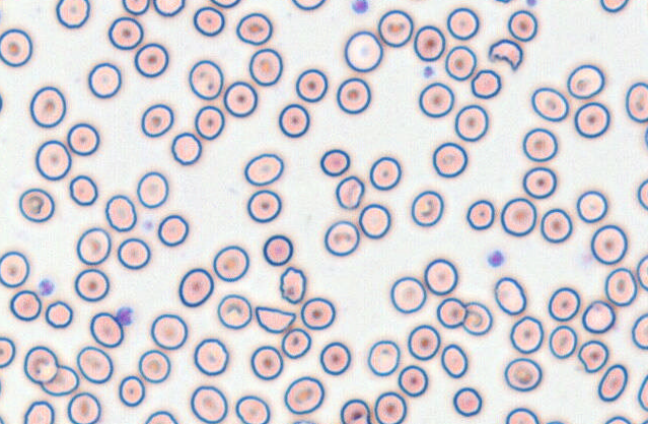PLT: (485, 248, 507, 268), (117, 306, 134, 326), (39, 279, 56, 297), (350, 0, 369, 15), (421, 64, 437, 79), (525, 0, 540, 7)
RBC: (344, 30, 383, 72), (283, 375, 324, 414), (29, 85, 66, 128), (590, 224, 627, 265), (35, 139, 71, 180), (190, 385, 228, 423), (178, 267, 214, 307), (188, 59, 223, 100), (150, 313, 188, 350), (76, 346, 113, 384), (212, 244, 249, 282), (193, 337, 229, 376), (530, 86, 569, 122), (500, 197, 536, 236), (566, 63, 605, 99), (573, 101, 610, 138), (377, 9, 413, 47), (23, 345, 58, 384), (503, 357, 542, 392), (248, 47, 283, 86), (243, 152, 283, 186), (390, 276, 426, 313), (76, 227, 111, 265), (509, 315, 543, 354), (216, 293, 252, 329), (418, 81, 454, 117), (323, 220, 359, 256), (423, 258, 458, 295), (336, 77, 371, 114), (493, 276, 526, 315), (604, 267, 637, 306), (18, 187, 54, 222), (432, 141, 467, 177), (522, 127, 558, 162), (223, 80, 257, 117), (454, 104, 488, 141), (40, 364, 79, 396), (0, 28, 32, 67), (107, 16, 143, 50), (87, 62, 121, 98), (367, 339, 400, 376), (410, 189, 443, 226), (235, 12, 272, 45), (105, 194, 137, 232), (597, 363, 628, 402), (89, 312, 123, 347), (74, 268, 109, 302), (246, 189, 281, 223), (300, 296, 335, 330), (134, 42, 168, 77), (407, 324, 440, 360), (358, 203, 391, 239), (413, 24, 445, 61), (136, 171, 168, 208), (581, 299, 615, 333), (140, 103, 174, 137), (250, 345, 283, 380), (547, 286, 580, 321), (522, 166, 557, 199), (444, 45, 476, 81), (138, 349, 171, 383), (295, 68, 328, 102), (66, 391, 101, 423), (540, 208, 572, 243), (278, 103, 310, 138), (446, 7, 479, 40), (117, 237, 150, 270), (66, 122, 99, 155), (170, 131, 202, 165), (319, 341, 351, 375), (373, 391, 407, 423), (369, 156, 401, 190), (0, 250, 29, 287), (576, 190, 608, 223), (194, 105, 224, 140), (234, 394, 270, 423), (9, 289, 41, 321), (397, 364, 428, 397), (462, 301, 492, 335), (280, 327, 311, 359), (157, 214, 188, 246), (262, 234, 293, 266), (440, 343, 468, 378), (55, 0, 90, 28), (470, 68, 501, 99), (68, 174, 98, 206), (193, 6, 225, 36), (507, 9, 537, 41), (548, 325, 577, 358), (436, 297, 466, 328), (625, 81, 647, 123), (452, 386, 482, 416), (319, 148, 350, 177), (466, 199, 494, 230), (118, 375, 145, 407), (44, 300, 73, 328), (339, 398, 370, 423), (23, 400, 54, 423), (631, 312, 647, 350), (505, 407, 539, 423), (152, 0, 185, 16), (0, 336, 15, 368), (143, 410, 178, 423), (121, 0, 149, 15), (636, 254, 647, 291), (599, 0, 629, 13), (637, 373, 647, 411), (291, 0, 326, 10), (637, 178, 647, 210), (208, 0, 240, 8), (604, 415, 631, 423), (290, 418, 317, 423), (544, 419, 567, 424), (644, 123, 648, 150), (492, 0, 512, 4), (0, 91, 3, 114)
Schistocyte: (254, 306, 297, 333), (279, 266, 307, 305), (490, 40, 524, 71), (579, 340, 609, 372)
